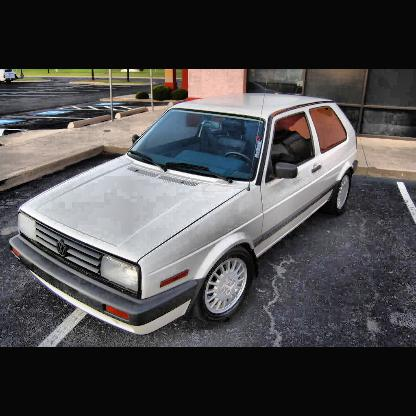Volkswagen Golf Hatchback 1991: (8, 95, 360, 338)
